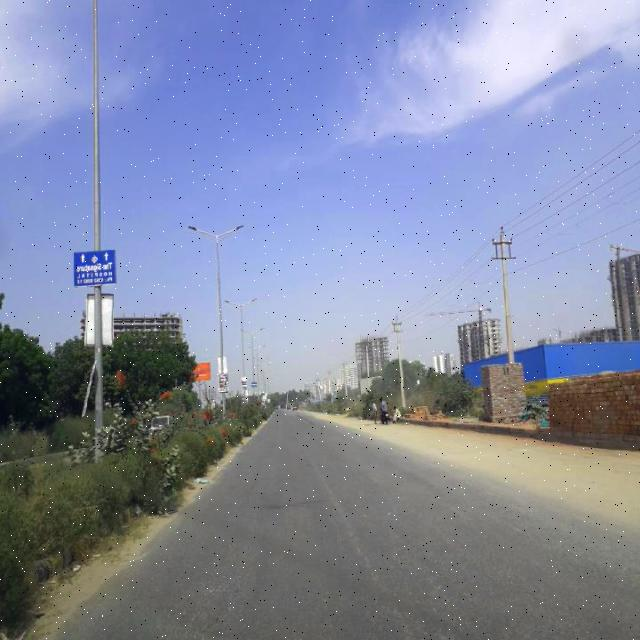D00: (298, 443, 396, 604)
D10: (256, 491, 335, 513)
